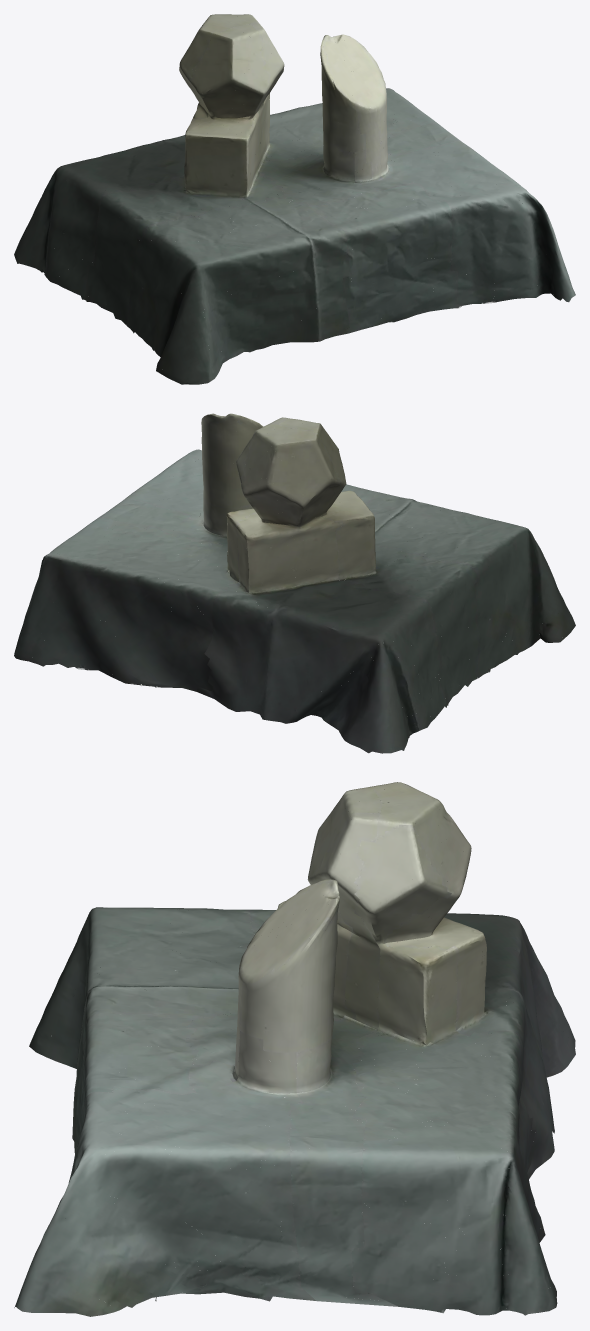
The model's file is 静物_几何体_组合几何体02_opt.glb.
The picture shows the model from 3 angles, top to bottom: view 1: azimuth 30°, elevation 25°; view 2: azimuth 150°, elevation 25°; view 3: azimuth 270°, elevation 25°; orthographic projection. The views are drawn at different scales.
Visible parts, largest first — view 1: defaultMat, defaultMat_1; view 2: defaultMat, defaultMat_1; view 3: defaultMat, defaultMat_1.
Part boxes in pixels (bbox=[...]): defaultMat: bbox=[14, 14, 575, 384]; defaultMat_1: bbox=[37, 14, 555, 373]; defaultMat: bbox=[14, 413, 575, 753]; defaultMat_1: bbox=[17, 414, 565, 753]; defaultMat: bbox=[14, 782, 575, 1316]; defaultMat_1: bbox=[36, 782, 575, 1313].
Bounding box in the file's own units: 0.5203 × 0.3 × 0.4309.
1 material, 1 textured.
